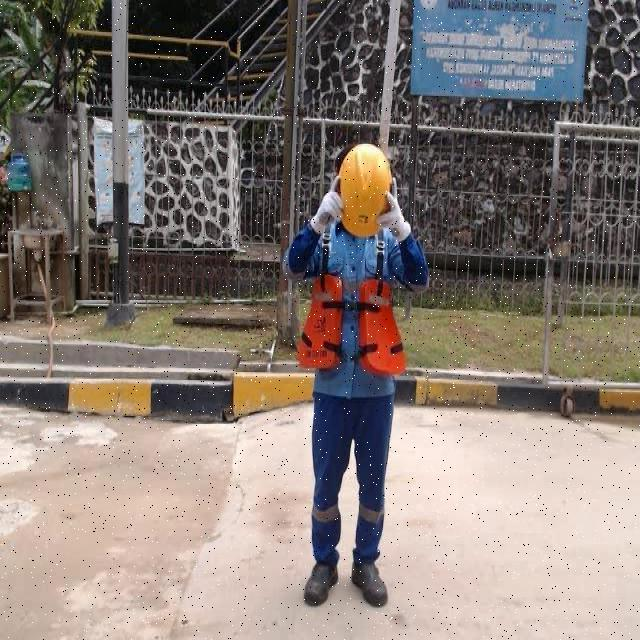Hard_hat: (339, 144, 391, 236)
Person: (279, 140, 431, 623)
Vest: (300, 225, 403, 381)
